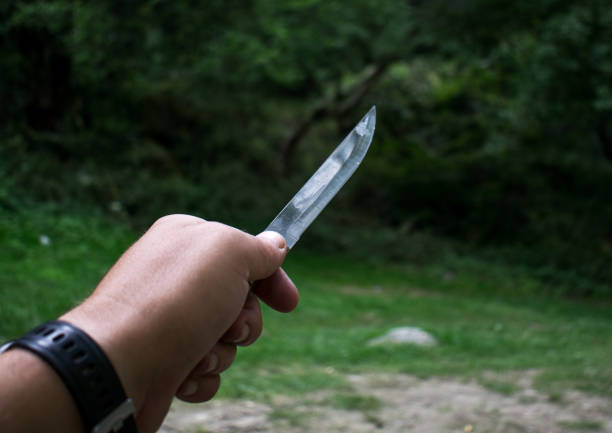knife: (260, 102, 379, 254)
